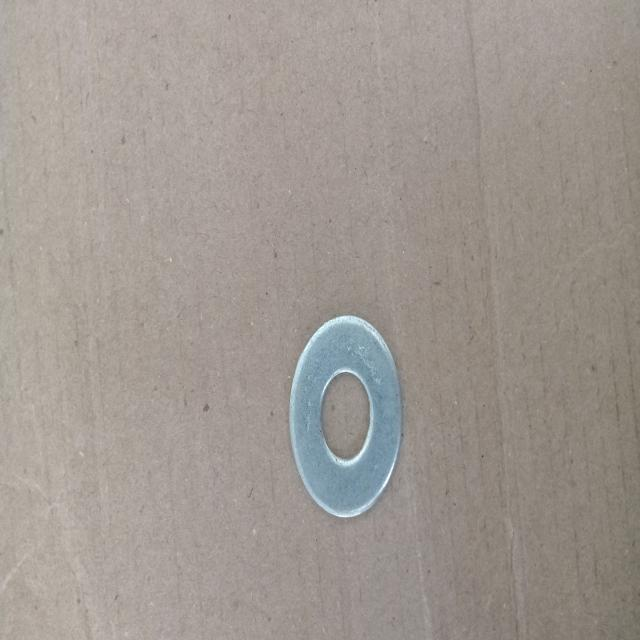washer: (290, 314, 402, 516)
